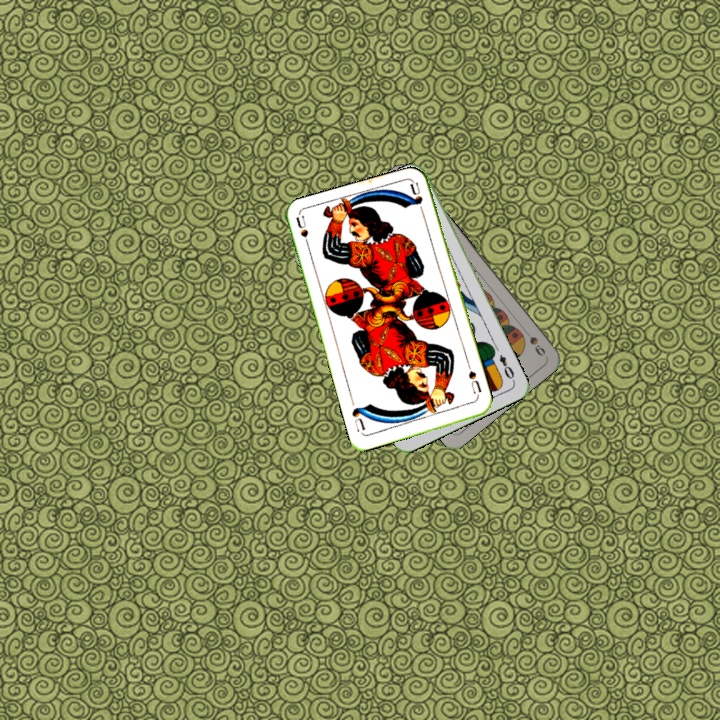EO: (495, 350, 517, 384)
S9: (519, 324, 548, 359)
SU: (292, 213, 313, 253), (464, 367, 484, 401)
